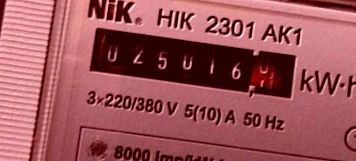0: (181, 47, 198, 72), (105, 40, 121, 64), (257, 53, 272, 75)
1: (205, 50, 220, 76), (257, 77, 266, 89)
2: (131, 41, 147, 66)
5: (156, 48, 169, 70)
6: (228, 56, 245, 83)
screen: (80, 15, 308, 108)
